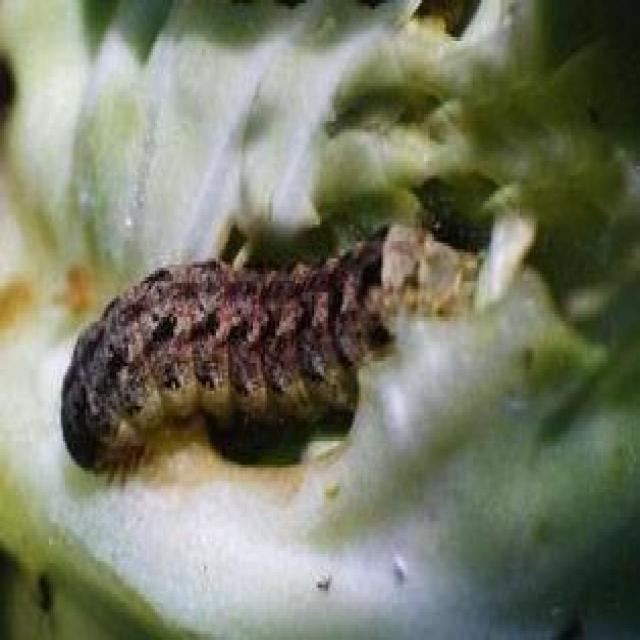armyworm: (66, 247, 373, 478)
